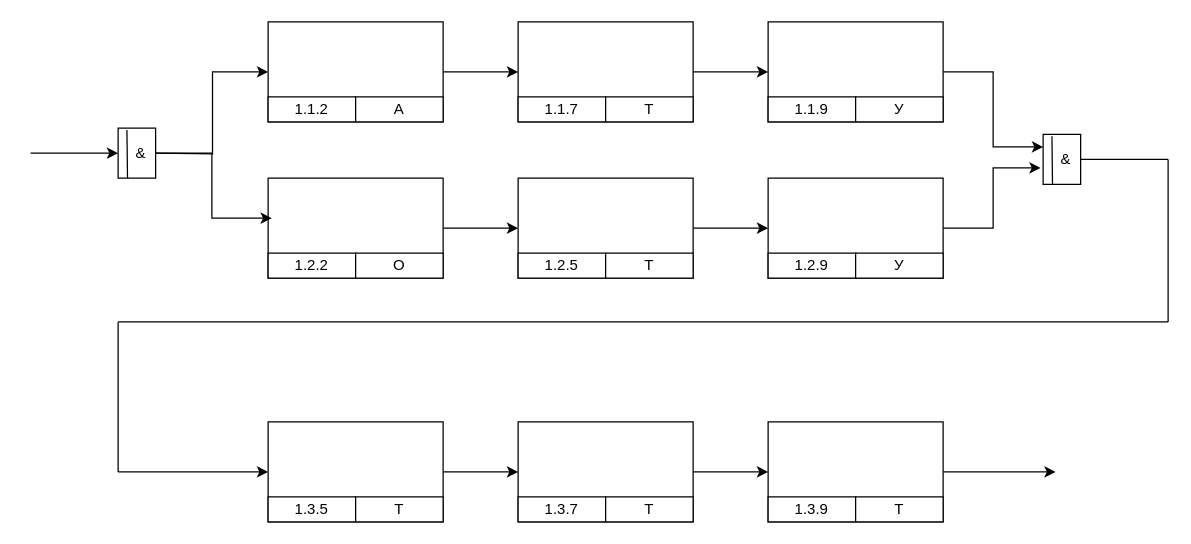
This 1191x544 diagram has some shape labels left out. Here are the shapes that lost their labels. From the top down, the box of each, then its label:
(267, 21, 443, 122): Календарное планирование конструкторских работ
(517, 21, 693, 122): Проектирование продукции
(767, 21, 943, 122): Учет конструкторской документации
(267, 177, 443, 278): Календарное планирование разработки техпроцессов
(517, 177, 693, 278): Разработка технологических процессов
(767, 177, 943, 278): Учет проектов технологических процессов
(267, 421, 443, 522): Разработка ТЗ на изготовление или закупку оборудования
(517, 421, 693, 522): Монтаж оборудования и техническое оснащение производства
(767, 421, 943, 522): Изготовление и испытание опытной партии продукции
